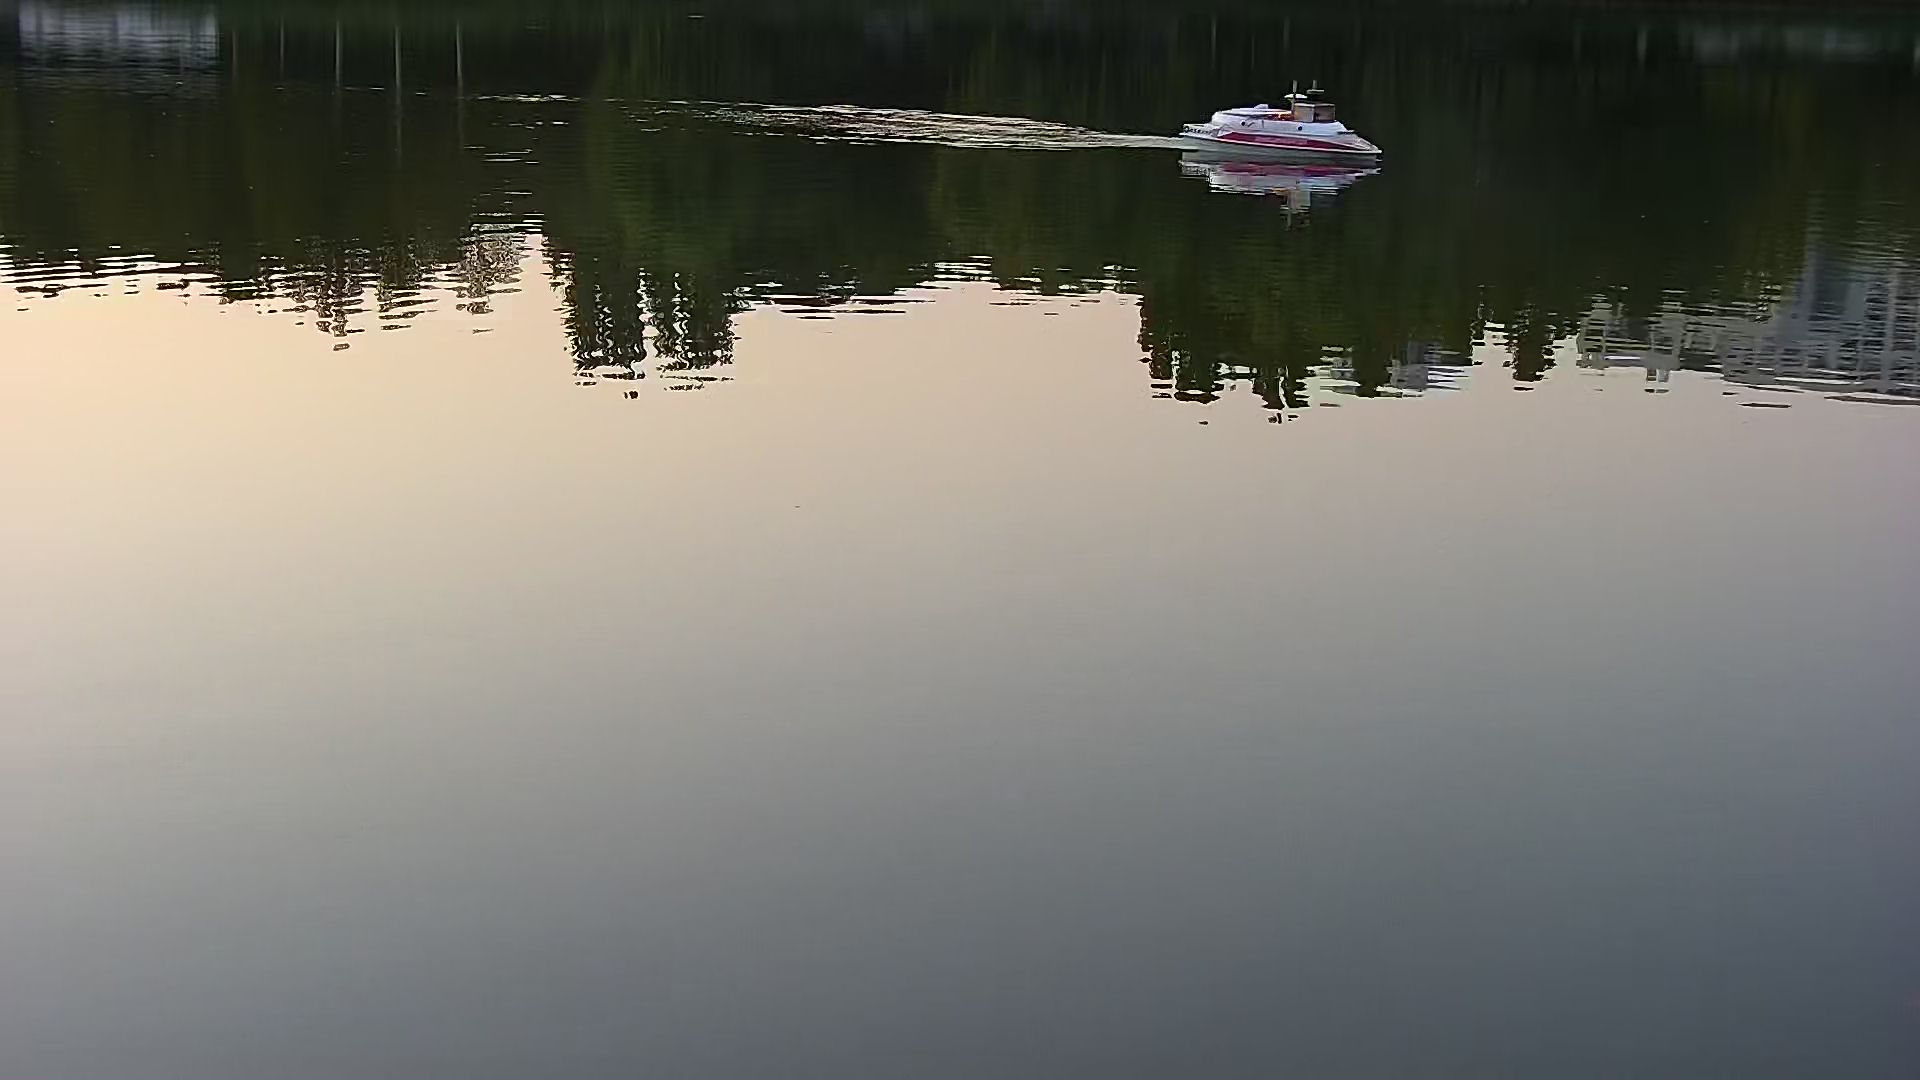boat: (1182, 70, 1381, 177)
